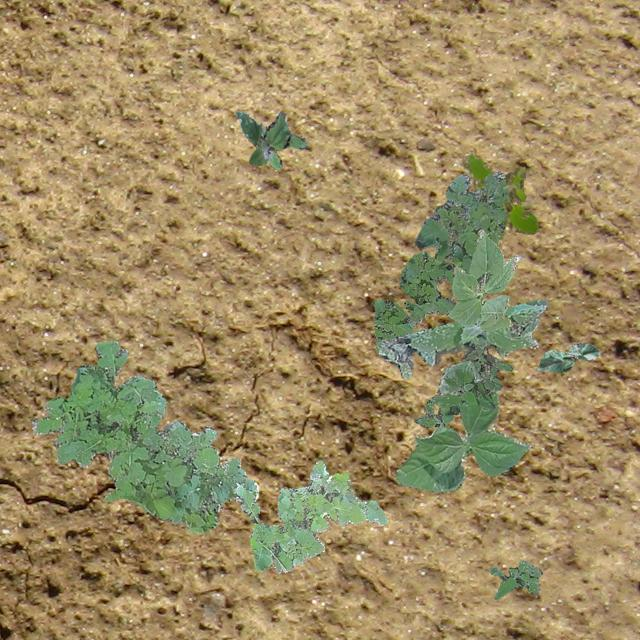crop: (394, 390, 530, 490), (446, 228, 516, 330), (536, 342, 600, 372)
weed: (31, 338, 258, 532), (234, 459, 388, 572), (376, 298, 546, 394), (413, 170, 508, 272), (412, 342, 512, 426), (372, 250, 454, 342), (462, 152, 538, 238), (234, 110, 306, 168), (488, 560, 540, 598)
